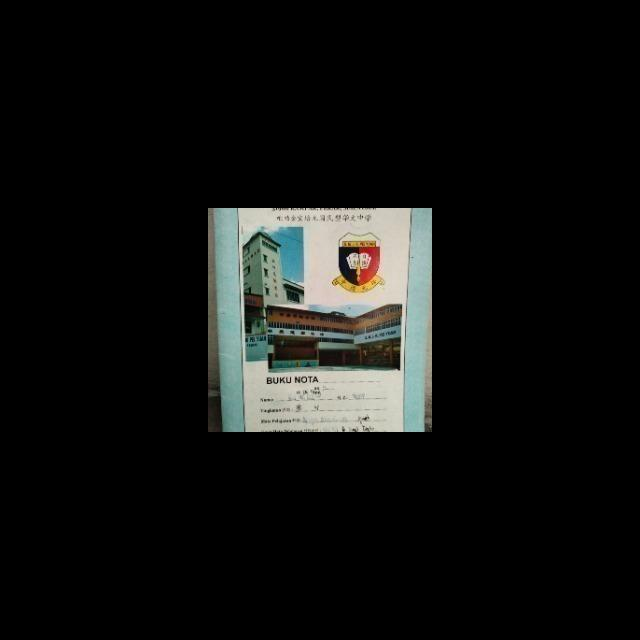paper: (209, 208, 432, 432)
